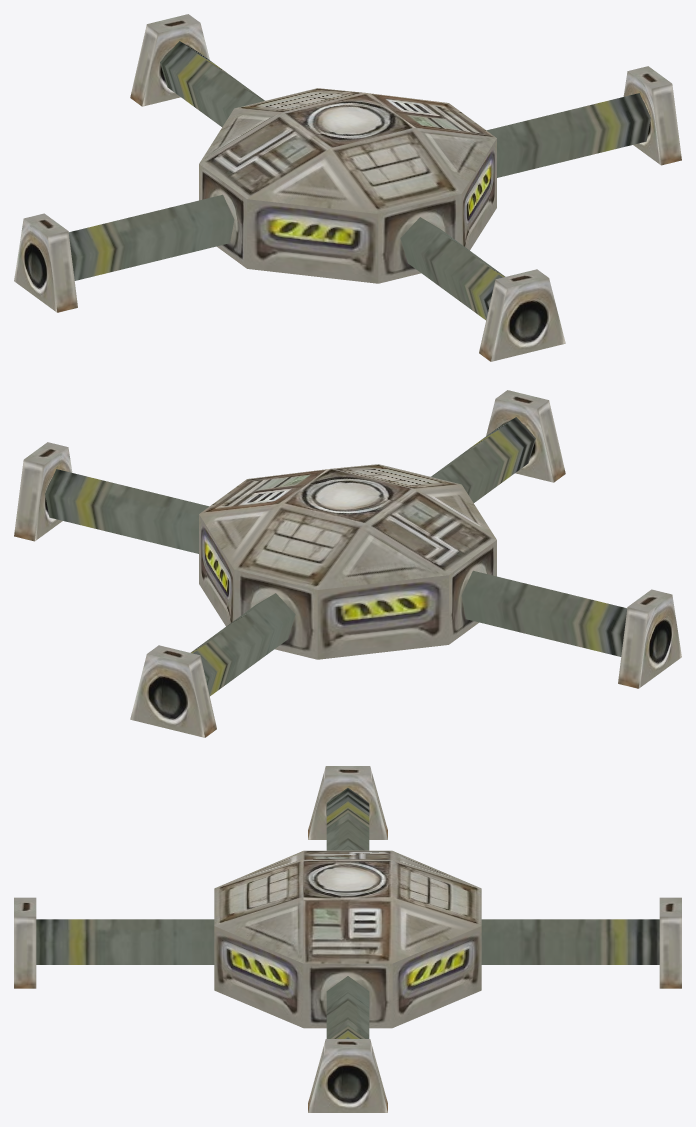
File: fourwaypipe_hdtex.glb
3 renders of one model, top to bottom at view 1: azimuth 30°, elevation 25°; view 2: azimuth 150°, elevation 25°; view 3: azimuth 270°, elevation 25°, orthographic. The views are drawn at different scales.
Visible parts, largest first — view 1: Mesh01; view 2: Mesh01; view 3: Mesh01.
Boxes of the visible parts, left/top/right/bottom form: Mesh01: left=14, top=14, right=681, bottom=361; Mesh01: left=14, top=390, right=681, bottom=737; Mesh01: left=14, top=766, right=681, bottom=1112.
Size of the model in its own units: 25.56 by 3.92 by 25.56.
Materials: 1 (1 with a texture image).
